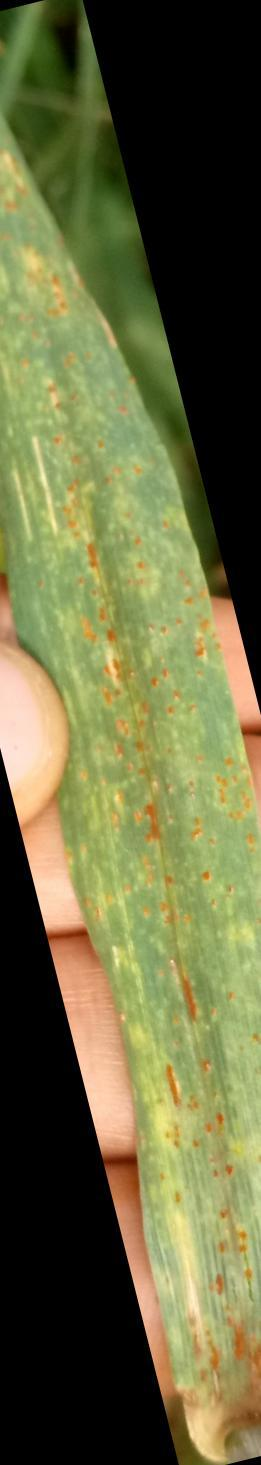Corn: (21, 243, 242, 1335)
